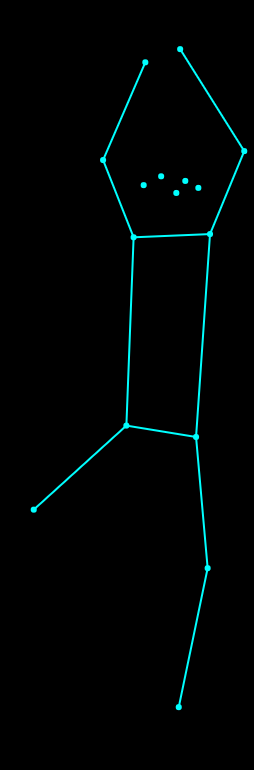tree: (27, 31, 249, 713)
